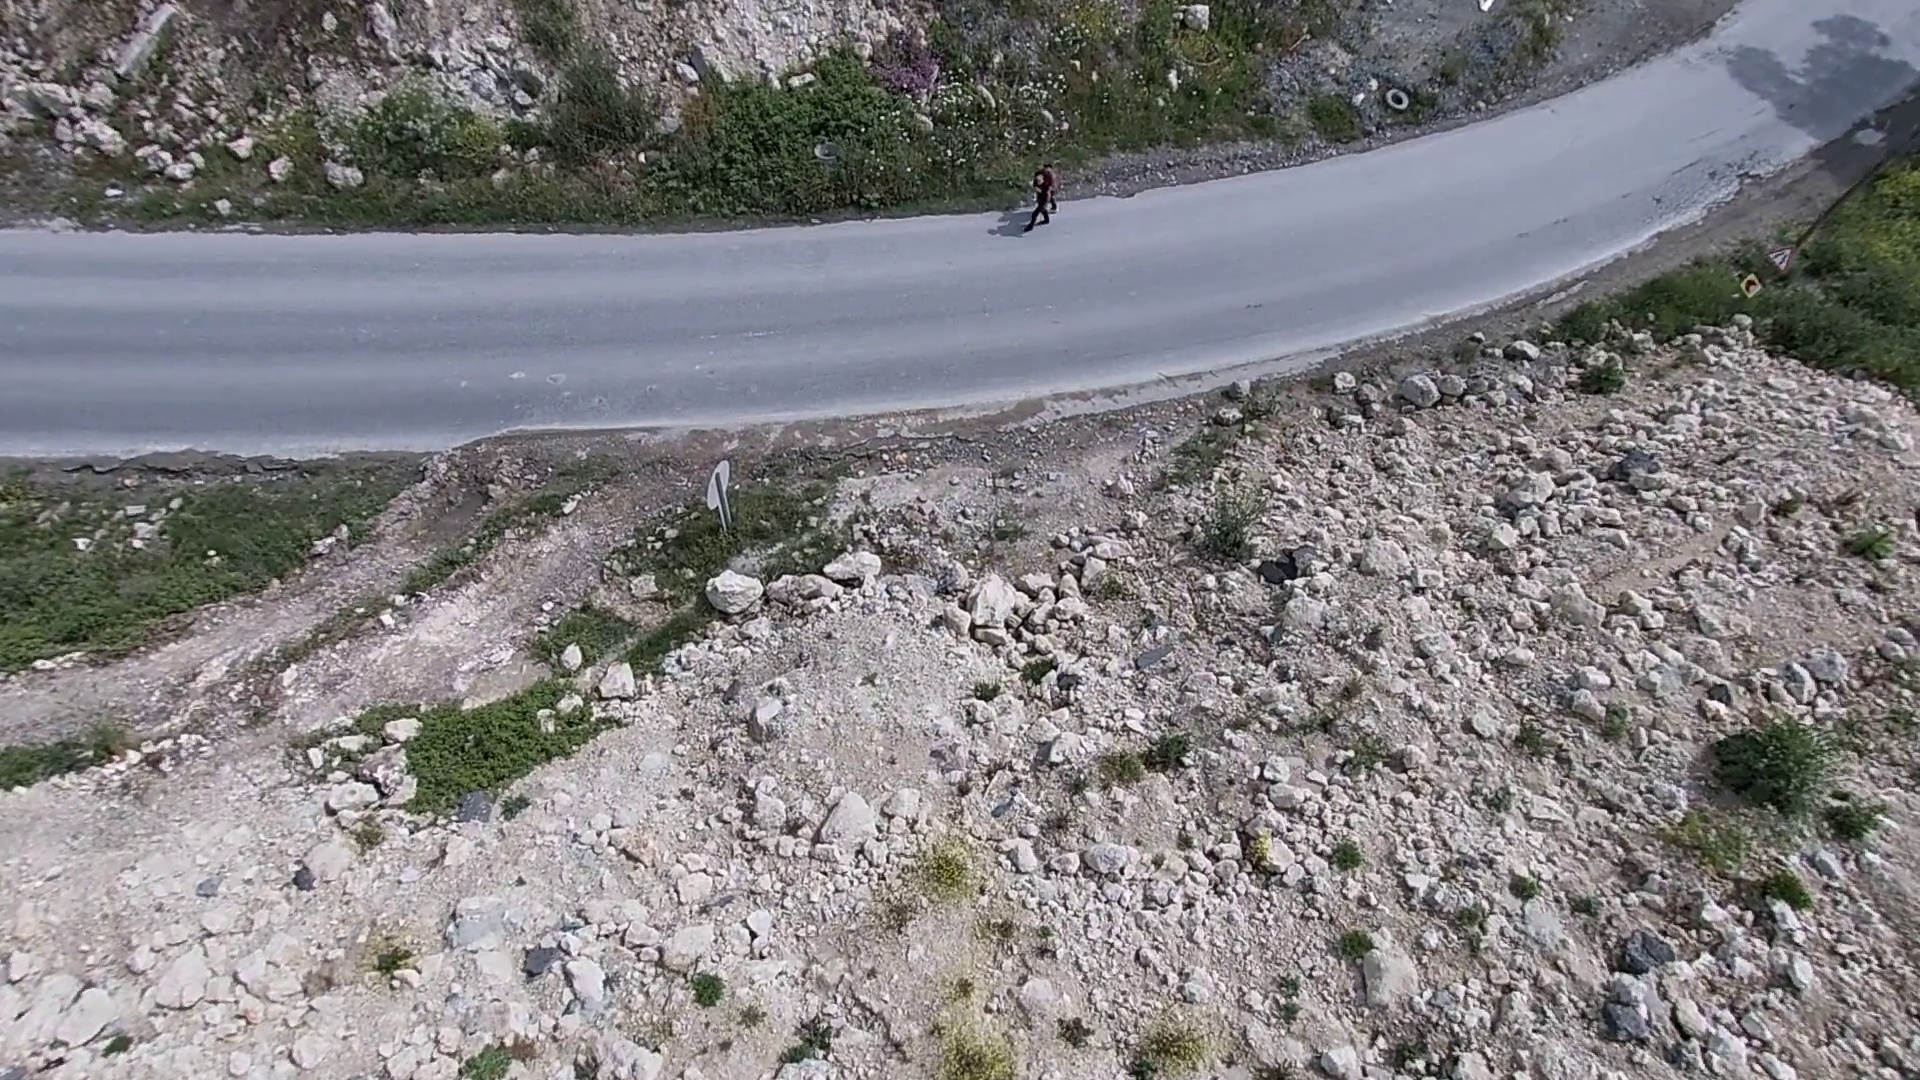insan: (1037, 164, 1063, 208), (1029, 174, 1052, 221)
